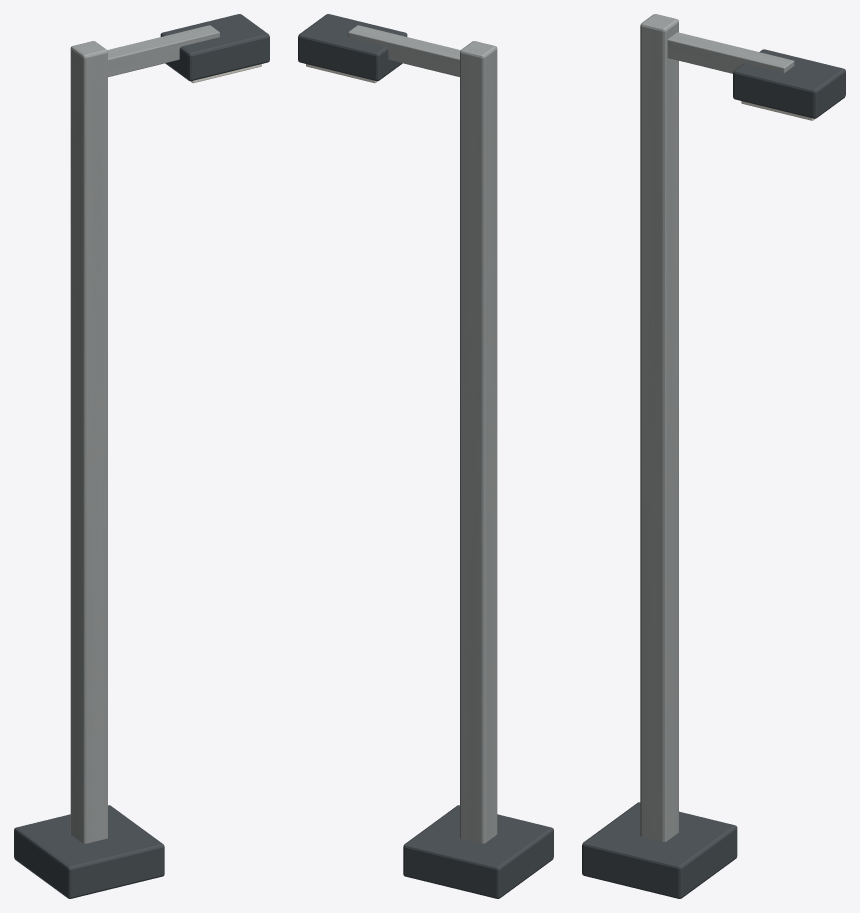
The model's file is outdoor_light_mast.glb.
3 views of the same model, side by side, from view 1: azimuth 30°, elevation 25°; view 2: azimuth 150°, elevation 25°; view 3: azimuth 330°, elevation 25° (orthographic). The views are drawn at different scales.
Parts seen in each view (by area): view 1: Pole, Foot.001, LightHousing, Arm; view 2: Pole, Foot.001, LightHousing, Arm; view 3: Pole, Foot.001, LightHousing, Arm.
Boxes of the visible parts, x1,y1,x2,y2 form: Pole: [70, 41, 107, 843]; Foot.001: [14, 805, 164, 898]; LightHousing: [160, 14, 269, 81]; Arm: [107, 25, 219, 76]; Pole: [460, 41, 497, 843]; Foot.001: [403, 805, 553, 898]; LightHousing: [298, 14, 407, 81]; Arm: [348, 25, 460, 76]; Pole: [640, 14, 678, 841]; Foot.001: [582, 802, 737, 898]; LightHousing: [733, 49, 845, 118]; Arm: [667, 32, 794, 73].
Size of the model in its own units: 1.11 by 4.05 by 0.5.
Materials: 3 (1 with a texture image).
